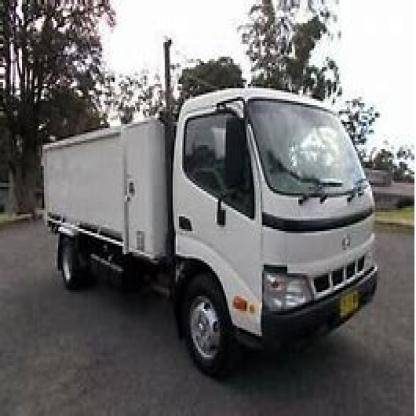dump_truck: (31, 69, 377, 376)
